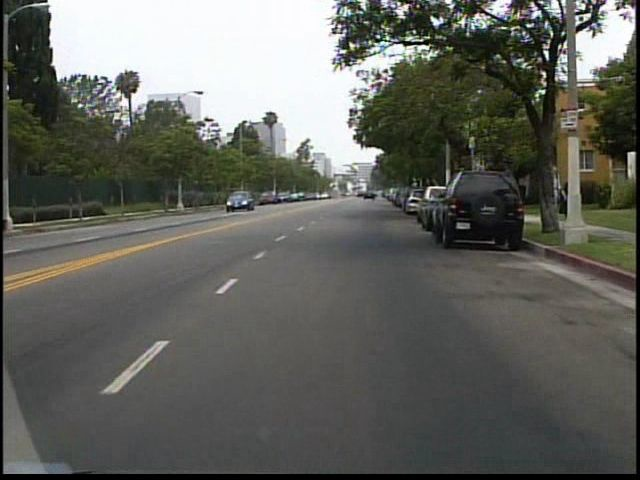person: (563, 165, 588, 233), (545, 161, 563, 226)
